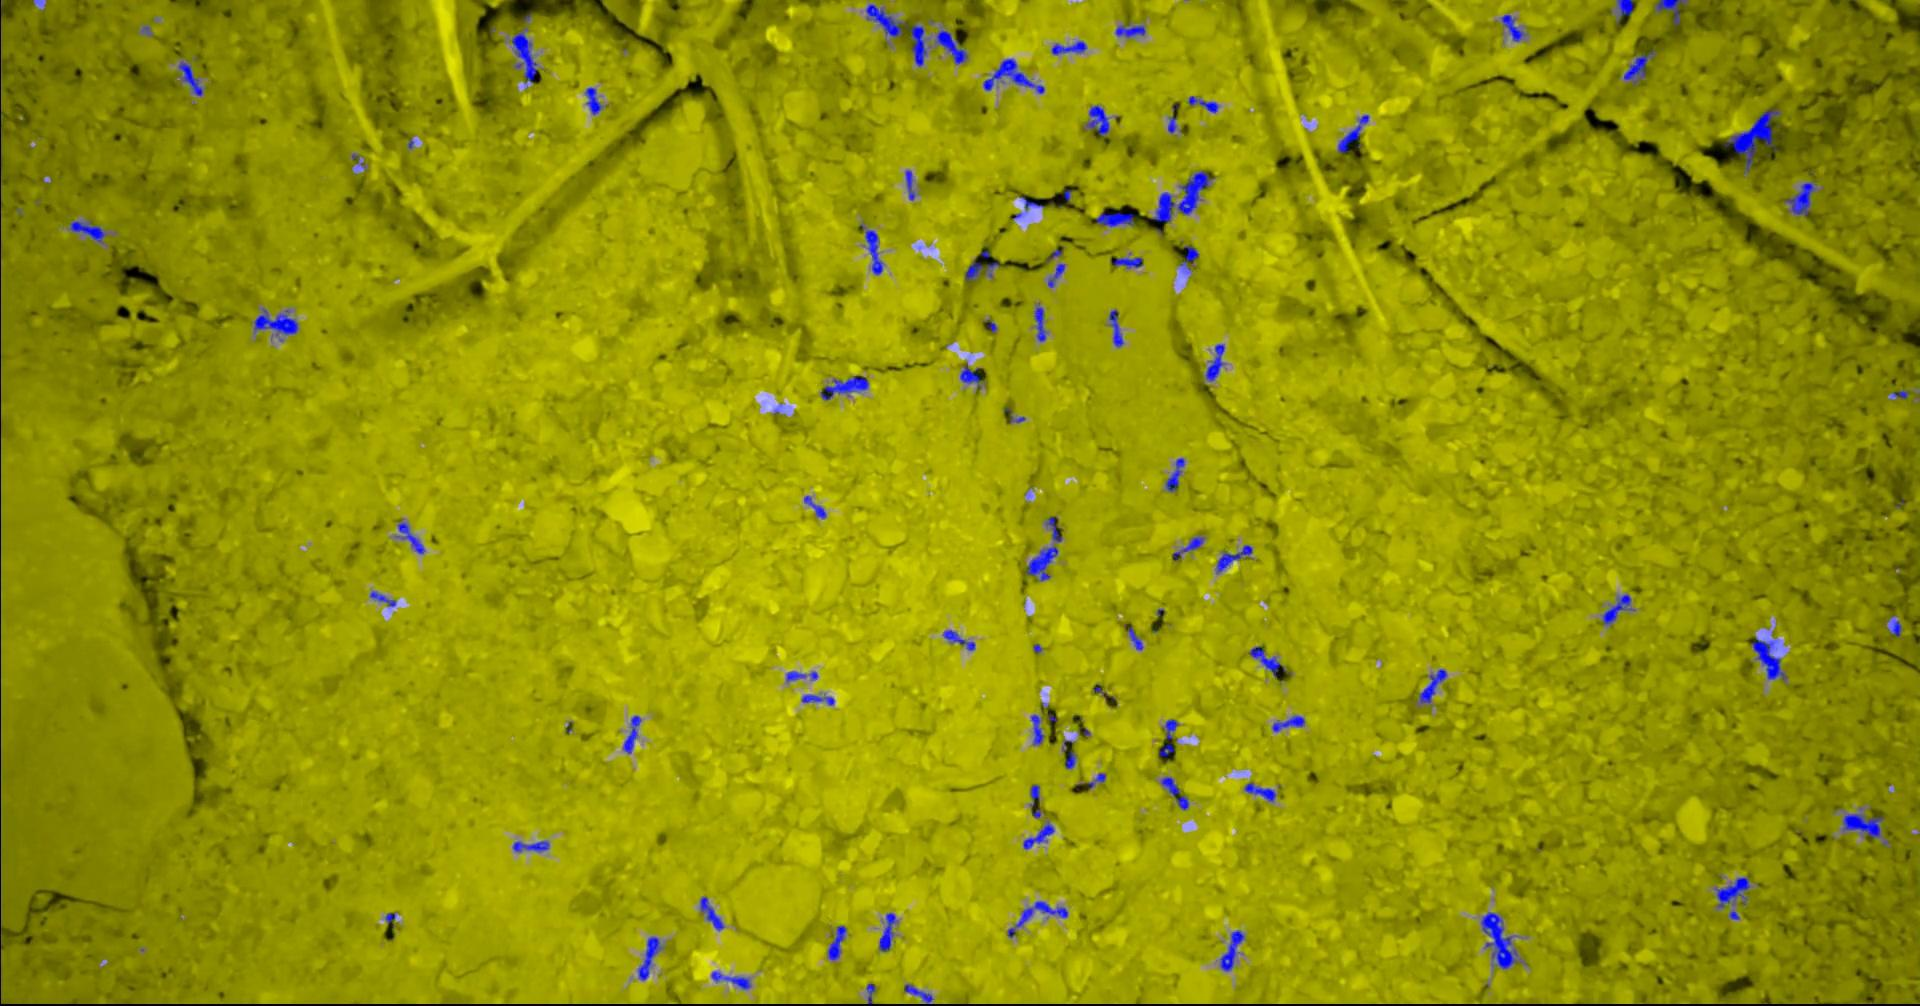ant: (865, 3, 926, 66), (1724, 109, 1779, 171), (1150, 170, 1213, 222), (1481, 912, 1523, 968), (1007, 901, 1067, 937), (982, 58, 1044, 93), (1751, 636, 1785, 680), (510, 30, 536, 83), (253, 307, 298, 335), (820, 375, 869, 399), (1337, 114, 1368, 152), (935, 29, 968, 64), (1025, 546, 1057, 580), (1250, 647, 1285, 677), (637, 936, 662, 981), (1623, 50, 1655, 83), (1843, 813, 1883, 838), (1219, 930, 1244, 970), (1784, 182, 1815, 215), (1716, 876, 1749, 907), (1217, 544, 1252, 572), (1418, 668, 1446, 702), (1603, 594, 1634, 624), (1161, 776, 1189, 809), (395, 522, 424, 553), (863, 229, 883, 274), (698, 895, 723, 930), (1023, 821, 1053, 848), (69, 220, 104, 243), (178, 62, 202, 95), (1655, 0, 1685, 25), (1172, 535, 1203, 560), (964, 258, 999, 279), (711, 970, 750, 989), (1205, 343, 1224, 381), (942, 629, 975, 650), (1158, 719, 1177, 756), (877, 912, 895, 951), (1500, 14, 1525, 41), (1086, 105, 1109, 135), (1164, 457, 1183, 492), (827, 925, 846, 959), (623, 715, 640, 753), (903, 984, 933, 1005), (959, 363, 983, 387), (1095, 211, 1133, 226), (1243, 782, 1275, 800), (1051, 39, 1086, 55), (803, 495, 825, 518), (1109, 309, 1123, 345), (1187, 95, 1218, 112), (1271, 715, 1304, 730), (584, 86, 602, 114), (1178, 245, 1197, 269), (1124, 624, 1142, 649), (1030, 714, 1044, 744), (1034, 304, 1045, 340), (512, 840, 549, 851), (1617, 0, 1633, 25), (1045, 516, 1062, 541), (370, 589, 395, 606), (1048, 263, 1064, 287), (1115, 24, 1145, 37), (1029, 784, 1040, 817), (801, 694, 834, 704), (1886, 615, 1901, 636), (1110, 257, 1142, 267), (1087, 772, 1105, 789), (905, 170, 914, 199), (1064, 749, 1076, 768), (786, 671, 805, 681), (866, 983, 875, 1005), (1167, 116, 1176, 132), (0, 109, 1, 182)
